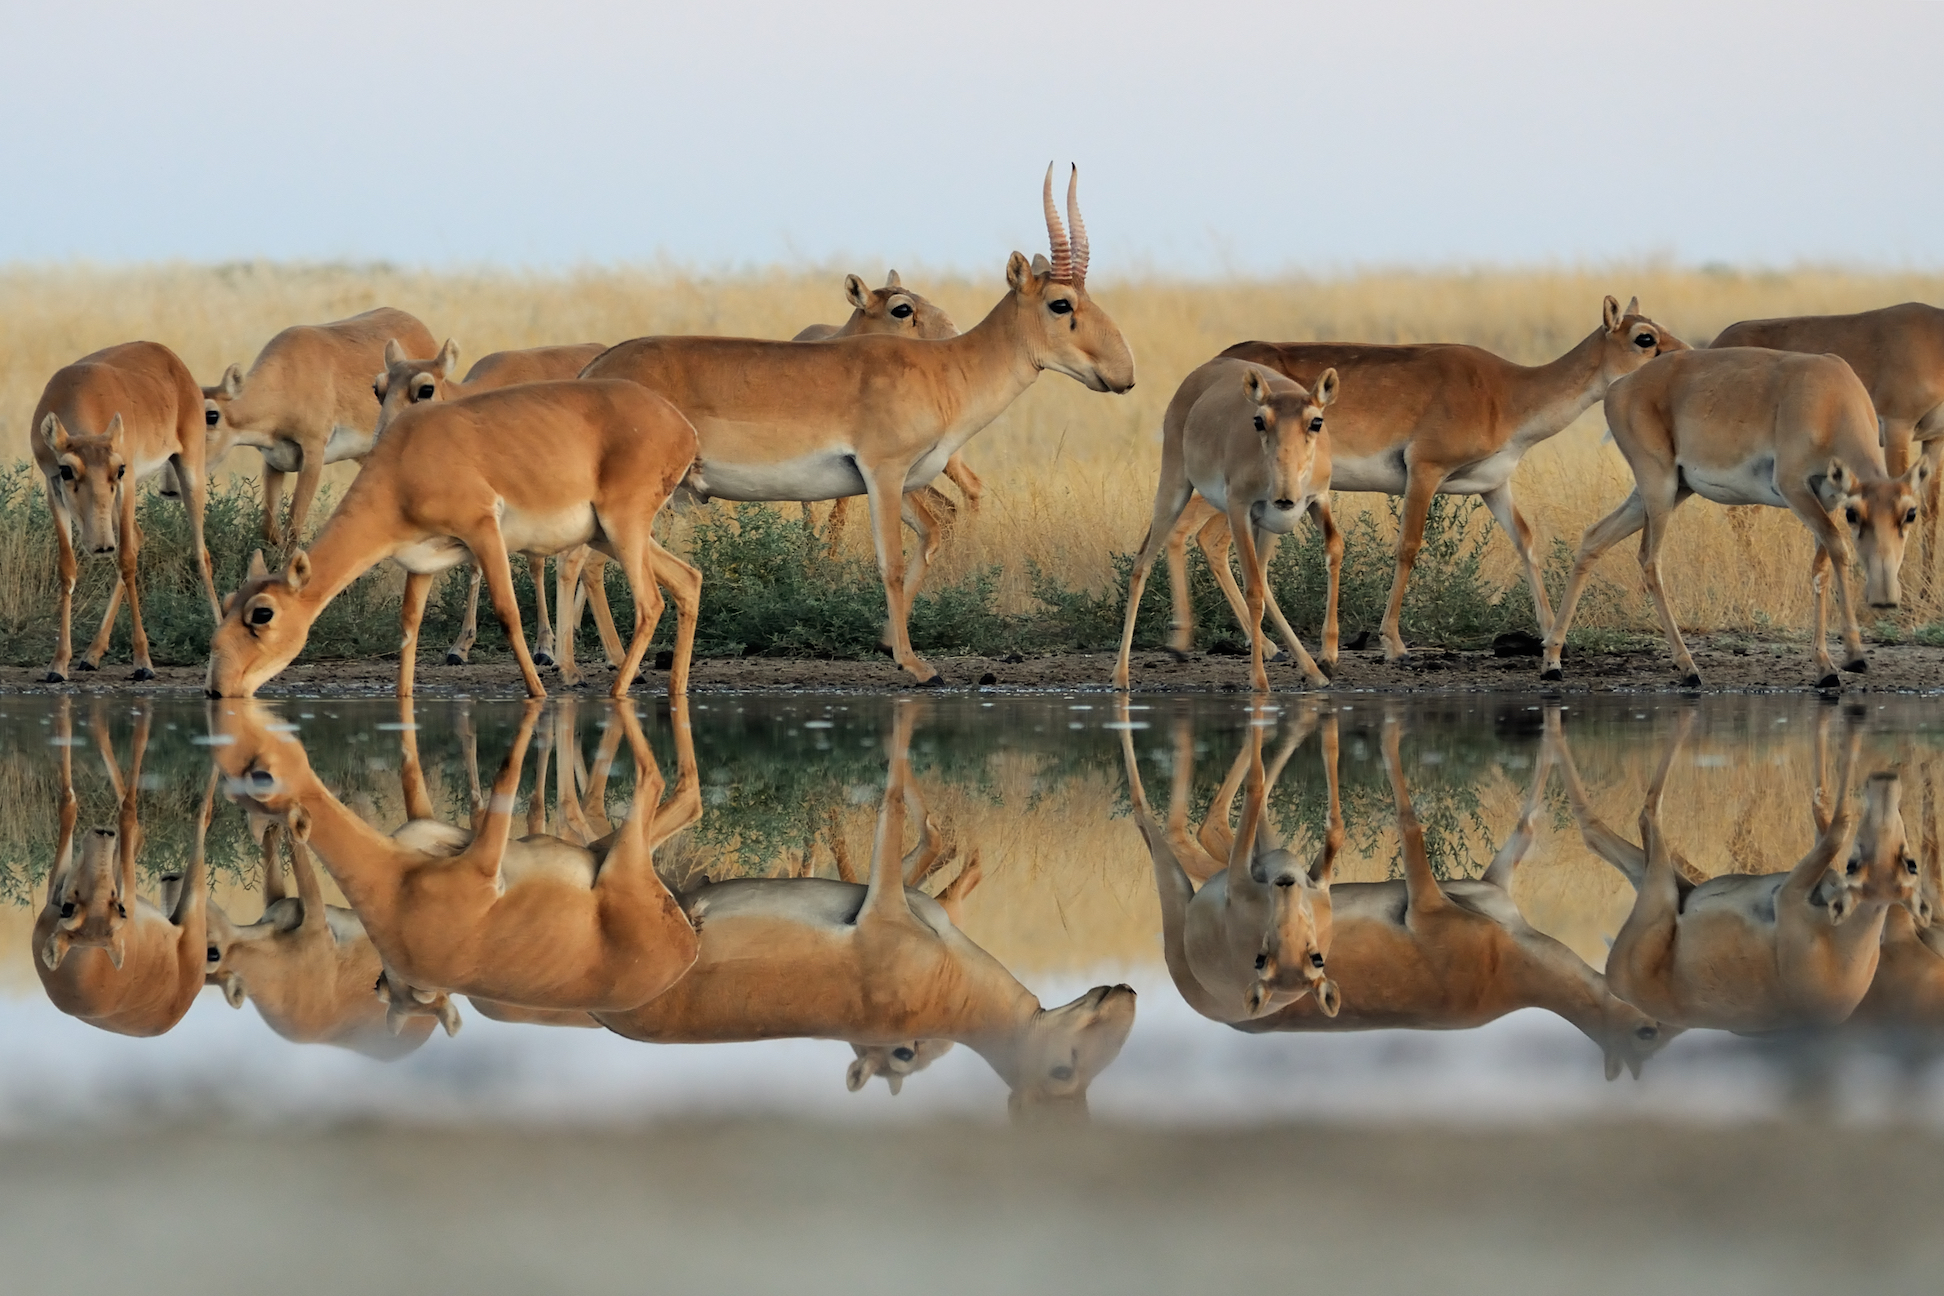saiga: (581, 156, 1131, 691), (208, 376, 709, 712)
